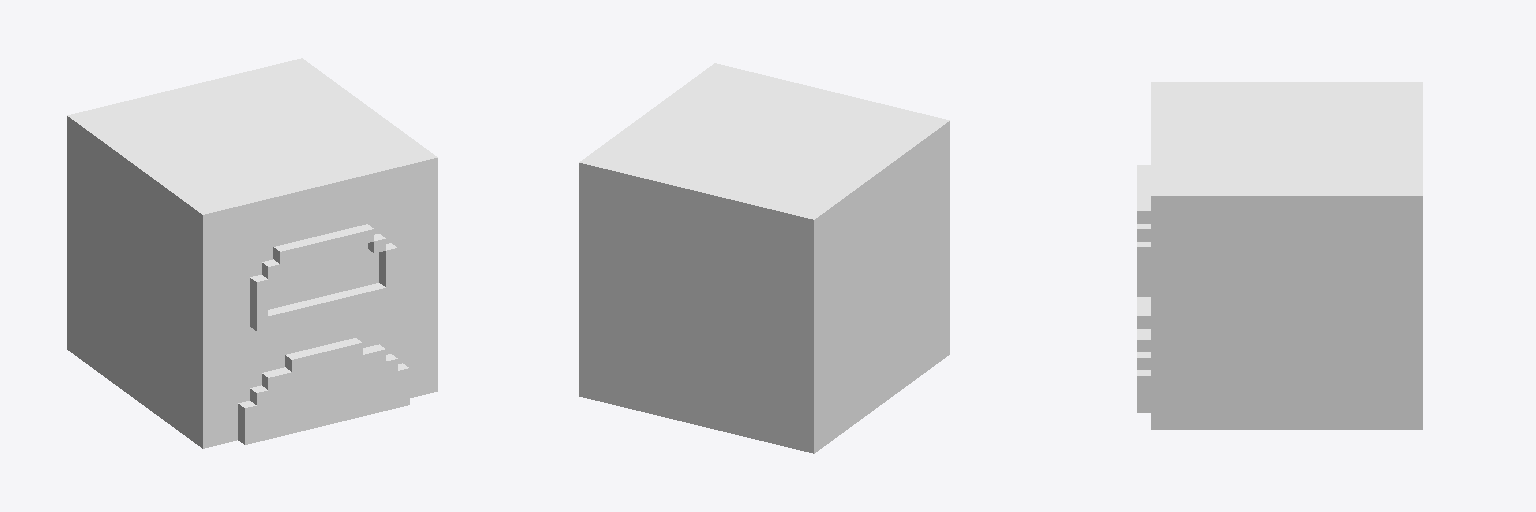
The model's file is HotTower.obj.
The picture shows the model from 3 angles: view 1: azimuth 30°, elevation 25°; view 2: azimuth 150°, elevation 25°; view 3: azimuth 270°, elevation 25°; orthographic projection.
Visible parts, largest first — view 1: object 1; view 2: object 1; view 3: object 1.
Boxes of the visible parts, x1,y1,x2,y2 form: object 1: [67, 58, 437, 448]; object 1: [579, 63, 949, 453]; object 1: [1137, 82, 1422, 429].
Bounding box in the file's own units: 2 × 1.9 × 2.1.